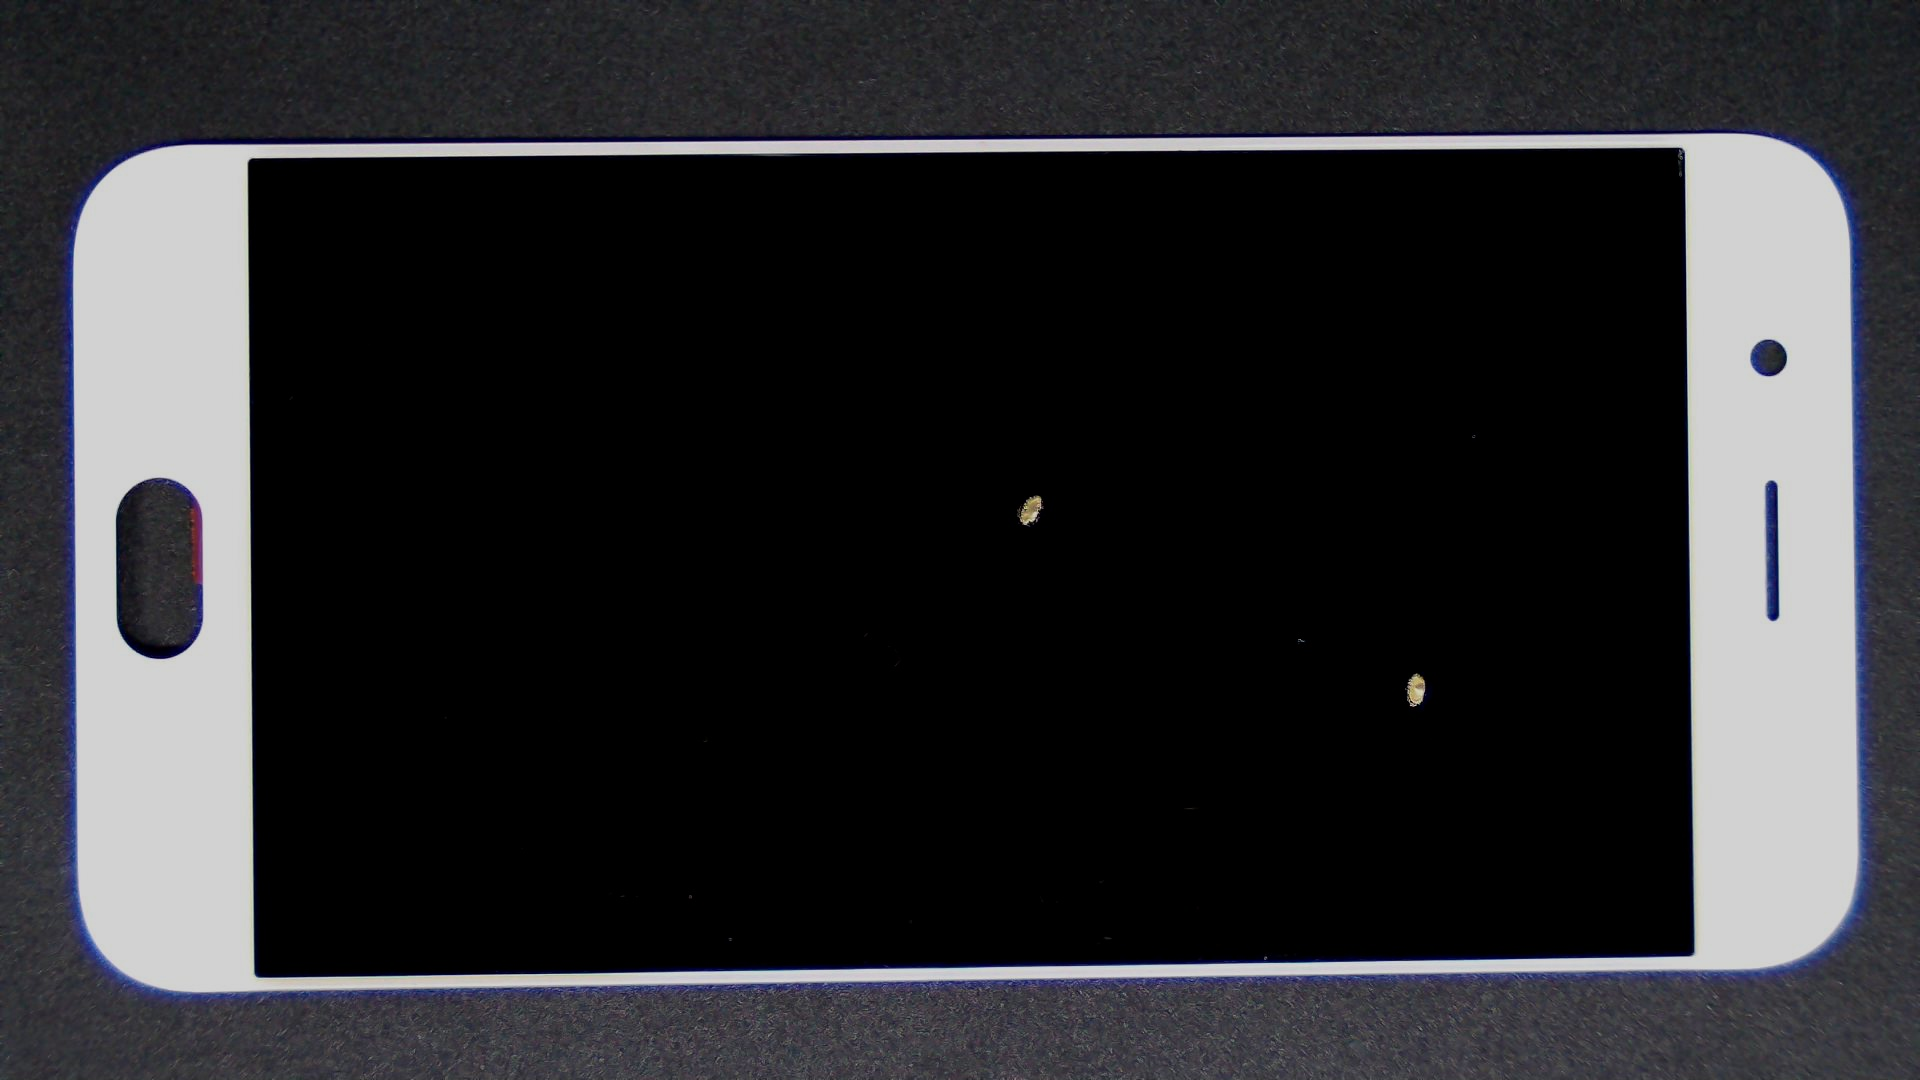oil: (708, 334, 1920, 1009), (518, 247, 1552, 740)
